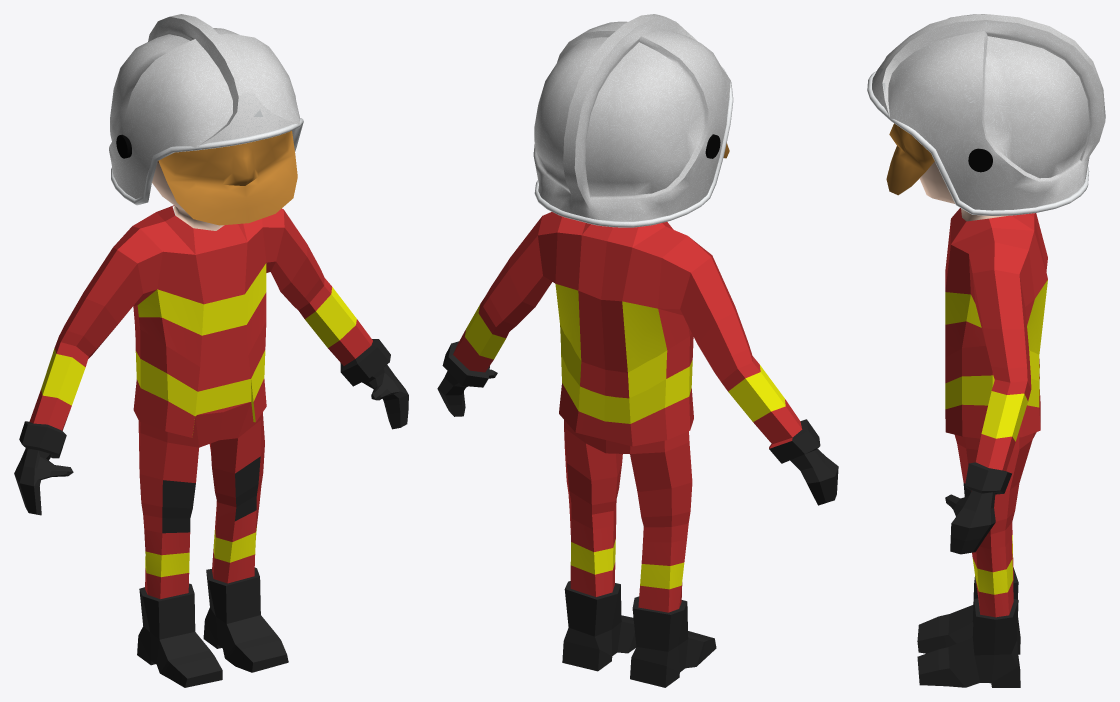
The model's file is Pompier.fbx.
3 views of the same model, side by side, from view 1: azimuth 30°, elevation 25°; view 2: azimuth 150°, elevation 25°; view 3: azimuth 270°, elevation 25° (orthographic). The views are drawn at different scales.
Parts seen in each view (by area): view 1: Character, group_16, group_15, group_16.001; view 2: Character, group_16, group_16.001; view 3: Character, group_16, group_15, group_16.001, group_2.001.
Part boxes in pixels (x1,y1,x2,y2): Character: (14,161,408,687); group_16: (109,14,299,198); group_15: (158,130,297,225); group_16.001: (111,118,303,205); Character: (437,212,838,687); group_16: (533,14,730,221); group_16.001: (534,66,733,227); Character: (917,161,1047,687); group_16: (872,14,1105,210); group_15: (886,123,934,195); group_16.001: (867,71,1089,215); group_2.001: (968,148,992,172).
Size of the model in its own units: 120 by 186 by 62.13.
